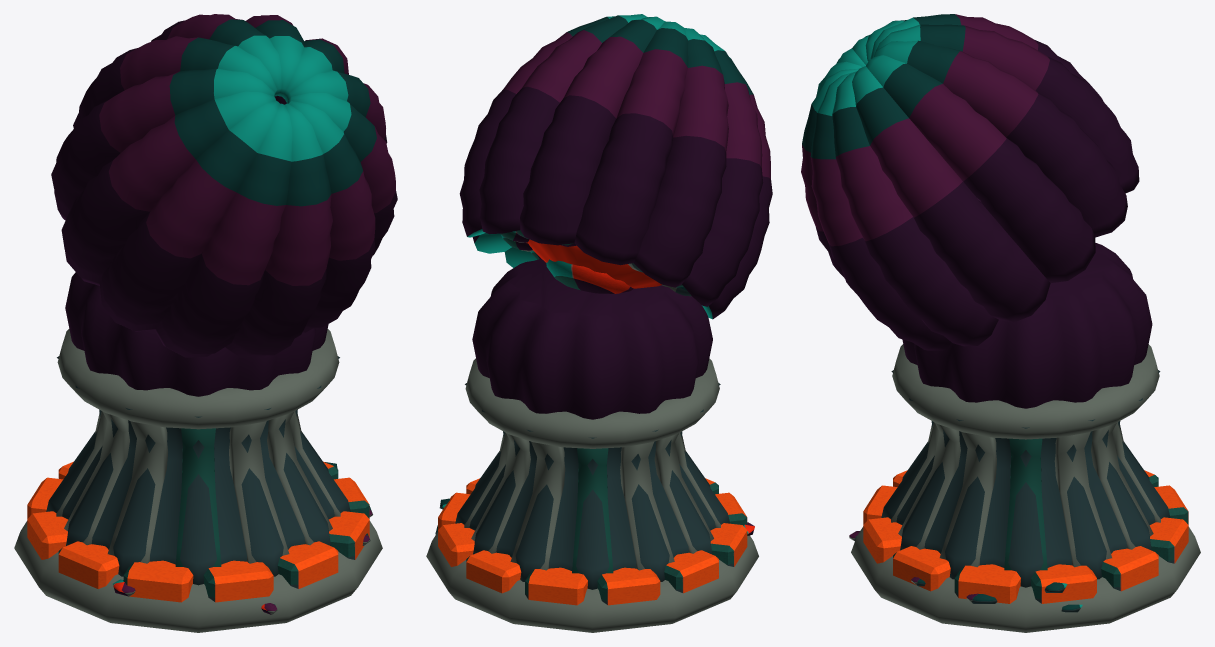
File: AnemoneClosed.obj
3 views of the same model, side by side, from view 1: azimuth 30°, elevation 25°; view 2: azimuth 150°, elevation 25°; view 3: azimuth 270°, elevation 25° (orthographic). The views are drawn at different scales.
Parts seen in each view (by area): view 1: PedestalRecess_Export, Tentacle_08_Export, Tentacle_09_Export, Tentacle_07_Export, Tentacle_10_Export, StoneFoot_Export, OrganicMantle_Export, UpperStoneLip_Export, Tentacle_06_Export, Tentacle_11_Export, Tentacle_05_Export, Tentacle_12_Export (+19 smaller); view 2: OrganicMantle_Export, PedestalRecess_Export, Tentacle_05_Export, Tentacle_04_Export, Tentacle_06_Export, StoneFoot_Export, Tentacle_03_Export, Tentacle_07_Export, UpperStoneLip_Export, Tentacle_02_Export, Tentacle_08_Export, StoneFlute_03_Export (+17 smaller); view 3: PedestalRecess_Export, OrganicMantle_Export, Tentacle_02_Export, Tentacle_01_Export, Tentacle_03_Export, Tentacle_12_Export, StoneFoot_Export, UpperStoneLip_Export, Tentacle_04_Export, Tentacle_11_Export, StoneFlute_01_Export, StoneFlute_11_Export (+15 smaller).
Part boxes in pixels (left/top/right/bottom): PedestalRecess_Export: left=46, top=356, right=350, bottom=585; Tentacle_08_Export: left=99, top=100, right=279, bottom=331; Tentacle_09_Export: left=155, top=103, right=292, bottom=357; Tentacle_07_Export: left=61, top=91, right=275, bottom=285; Tentacle_10_Export: left=225, top=103, right=332, bottom=357; StoneFoot_Export: left=14, top=521, right=382, bottom=632; OrganicMantle_Export: left=65, top=272, right=328, bottom=396; UpperStoneLip_Export: left=57, top=329, right=339, bottom=429; Tentacle_06_Export: left=51, top=68, right=274, bottom=220; Tentacle_11_Export: left=288, top=101, right=375, bottom=332; Tentacle_05_Export: left=73, top=36, right=277, bottom=128; Tentacle_12_Export: left=286, top=93, right=397, bottom=255; OrganicMantle_Export: left=472, top=258, right=712, bottom=419; PedestalRecess_Export: left=455, top=383, right=730, bottom=589; Tentacle_05_Export: left=574, top=21, right=688, bottom=265; Tentacle_04_Export: left=520, top=16, right=664, bottom=245; Tentacle_06_Export: left=634, top=28, right=728, bottom=287; StoneFoot_Export: left=426, top=532, right=758, bottom=632; Tentacle_03_Export: left=479, top=14, right=647, bottom=234; Tentacle_07_Export: left=682, top=34, right=763, bottom=306; UpperStoneLip_Export: left=465, top=358, right=719, bottom=448; Tentacle_02_Export: left=459, top=16, right=614, bottom=237; Tentacle_08_Export: left=702, top=57, right=772, bottom=319; StoneFlute_03_Export: left=510, top=441, right=565, bottom=570; PedestalRecess_Export: left=881, top=370, right=1170, bottom=587; OrganicMantle_Export: left=902, top=243, right=1152, bottom=408; Tentacle_02_Export: left=866, top=55, right=1095, bottom=282; Tentacle_01_Export: left=852, top=66, right=1050, bottom=322; Tentacle_03_Export: left=873, top=40, right=1127, bottom=237; Tentacle_12_Export: left=832, top=72, right=998, bottom=346; StoneFoot_Export: left=851, top=526, right=1200, bottom=632; UpperStoneLip_Export: left=892, top=344, right=1159, bottom=439; Tentacle_04_Export: left=873, top=24, right=1139, bottom=193; Tentacle_11_Export: left=810, top=71, right=951, bottom=350; StoneFlute_01_Export: left=1054, top=432, right=1111, bottom=567; StoneFlute_11_Export: left=939, top=431, right=996, bottom=567.
Size of the model in its own units: 3.56 by 6.01 by 4.07.
Materials: 1 (1 with a texture image).
